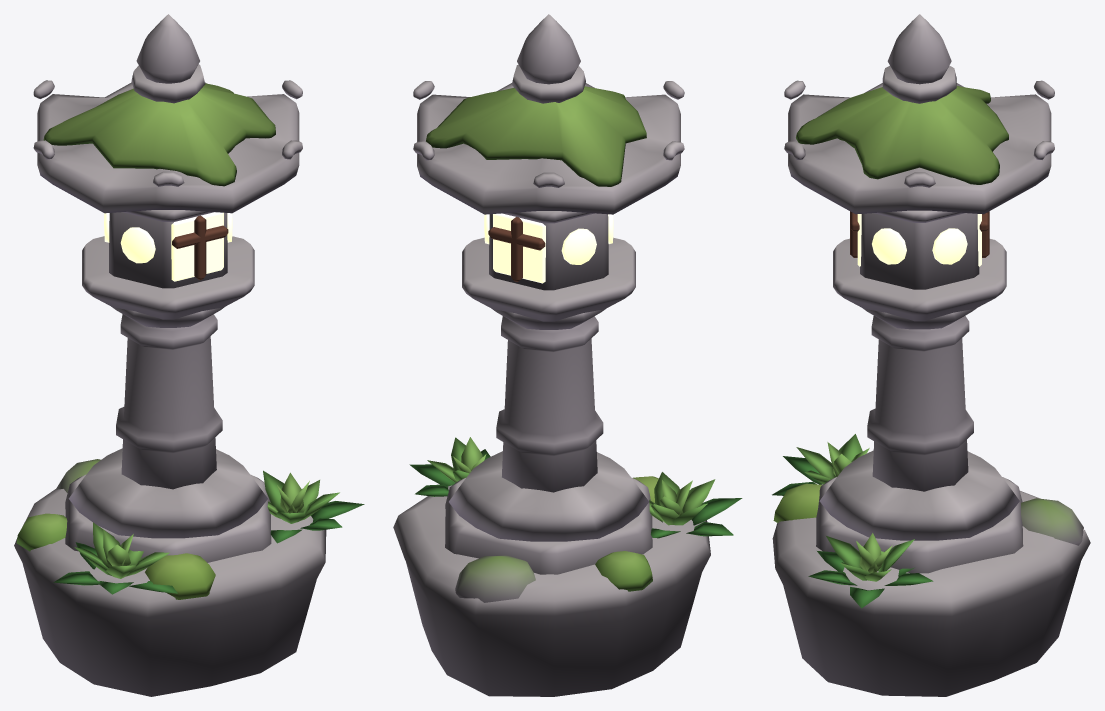
The model's file is stoneLantern.glb.
3 views of the same model, side by side, from view 1: azimuth 30°, elevation 25°; view 2: azimuth 150°, elevation 25°; view 3: azimuth 270°, elevation 25° (orthographic).
Visible parts, largest first — view 1: stoneLantern; view 2: stoneLantern; view 3: stoneLantern.
Boxes of the visible parts, x1=… form: stoneLantern: x1=14, y1=14, x2=364, y2=696; stoneLantern: x1=393, y1=14, x2=742, y2=696; stoneLantern: x1=772, y1=14, x2=1090, y2=696.
Bounding box in the file's own units: 1.06 × 1.99 × 0.916.
